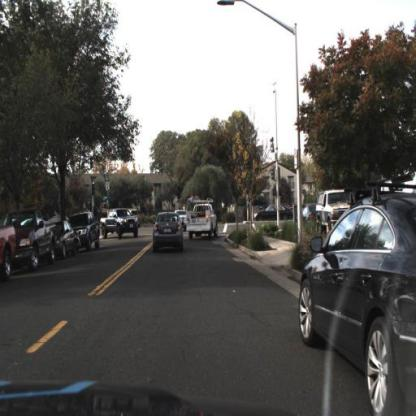car: (298, 201, 416, 416), (11, 206, 56, 270), (312, 187, 353, 236), (98, 202, 140, 242), (150, 208, 184, 256), (186, 194, 217, 242), (69, 206, 100, 251), (49, 221, 78, 261), (252, 198, 296, 223)
trafficLight-Green: (102, 186, 110, 204)
